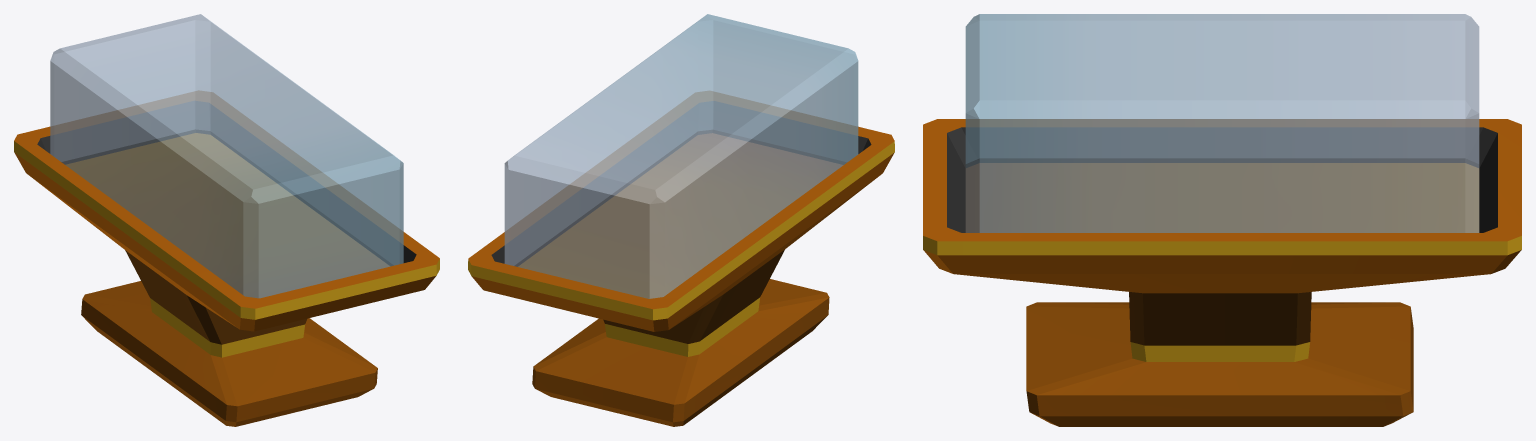
The model's file is Museum_Display_Rect.fbx.
The picture shows the model from 3 angles, left to right: view 1: azimuth 30°, elevation 25°; view 2: azimuth 150°, elevation 25°; view 3: azimuth 270°, elevation 25°; orthographic projection. The views are drawn at different scales.
Visible parts, largest first — view 1: Cube, Cube.001; view 2: Cube, Cube.001; view 3: Cube, Cube.001.
Boxes of the visible parts, left/top/right/bottom form: Cube: left=14, top=91, right=439, bottom=426; Cube.001: left=50, top=14, right=403, bottom=298; Cube: left=468, top=91, right=894, bottom=426; Cube.001: left=504, top=14, right=858, bottom=298; Cube: left=923, top=119, right=1521, bottom=426; Cube.001: left=965, top=14, right=1479, bottom=232.
Bounding box in the file's own units: 166 × 207 × 344.
